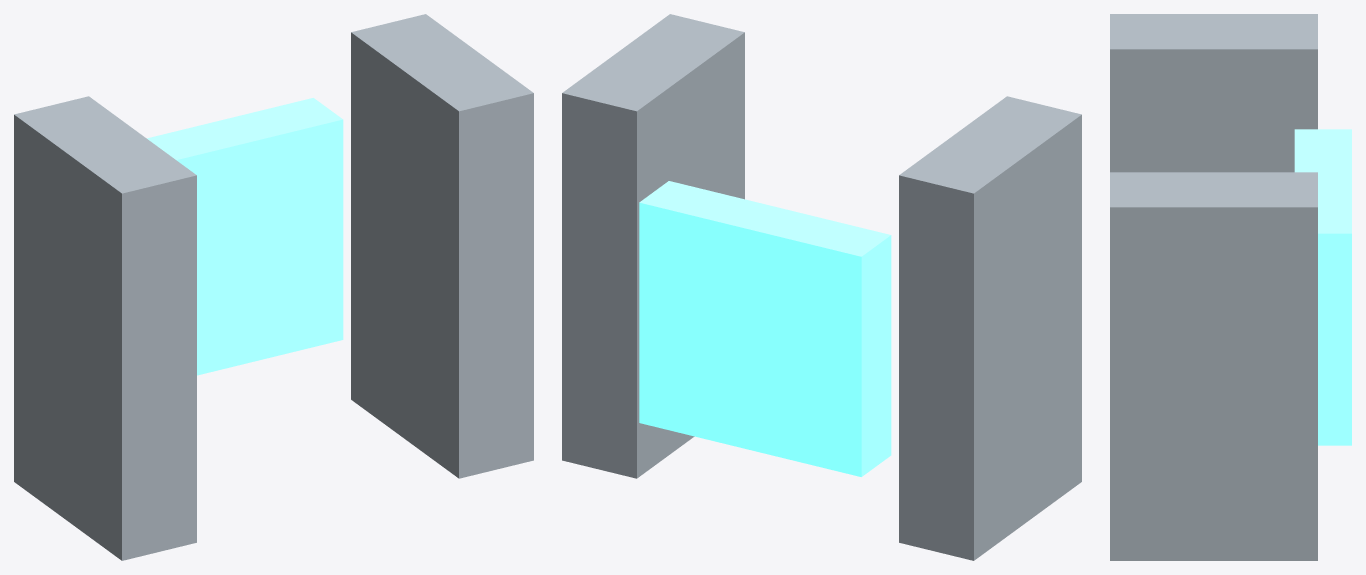
Rendered from sat_servicer_rail_clamp.glb.
The picture shows the model from 3 angles, left to right: view 1: azimuth 30°, elevation 25°; view 2: azimuth 150°, elevation 25°; view 3: azimuth 270°, elevation 25°; orthographic projection. The views are drawn at different scales.
Parts seen in each view (by area): view 1: world; view 2: world; view 3: world.
Part boxes in pixels (x1,y1,x2,y2): world: (14, 14, 533, 560); world: (562, 14, 1081, 560); world: (1110, 14, 1351, 560).
Bounding box in the file's own units: 0.176 × 0.15 × 0.093.
